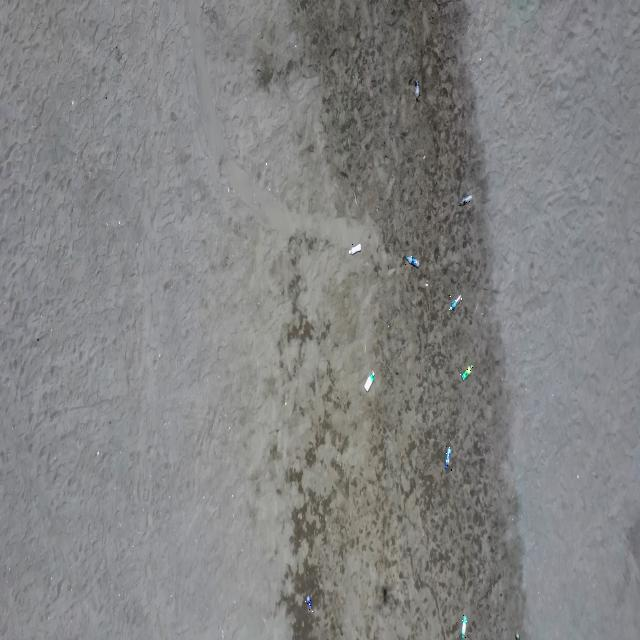Garbage: (448, 293, 462, 311), (364, 369, 373, 391), (460, 364, 472, 380), (404, 255, 419, 267), (460, 614, 467, 639), (444, 446, 451, 471), (457, 193, 472, 204), (413, 80, 420, 100), (303, 596, 312, 611), (348, 243, 360, 252), (515, 632, 519, 639)
